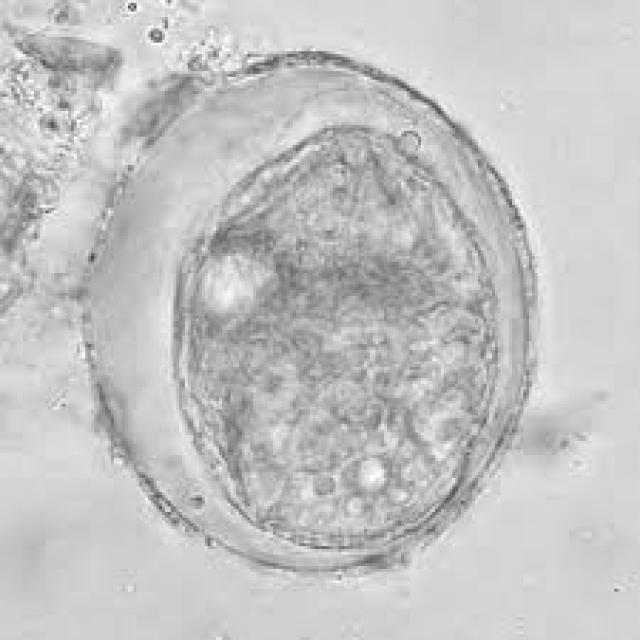Schistosoma: (64, 33, 548, 590)
